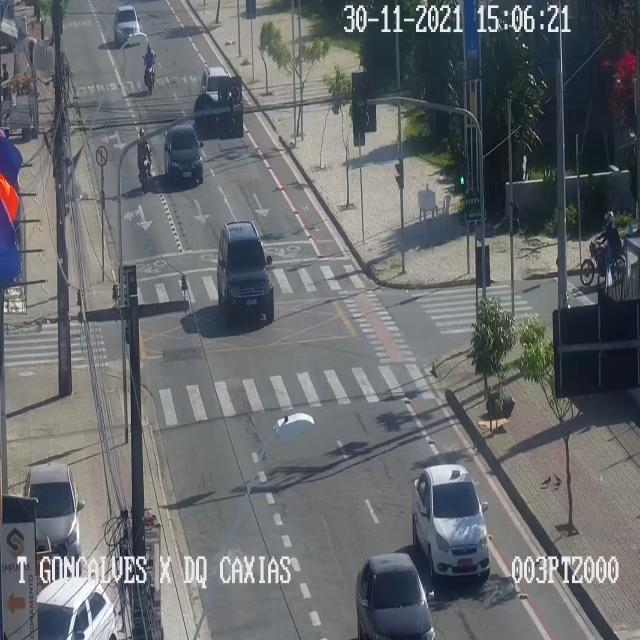Car: (412, 464, 490, 578), (356, 553, 434, 639), (25, 464, 81, 573), (217, 221, 273, 320), (37, 577, 117, 639), (164, 124, 202, 182), (199, 67, 231, 120), (113, 5, 139, 43)
Motorcycle: (580, 210, 624, 284), (137, 127, 151, 191), (143, 44, 155, 94)
